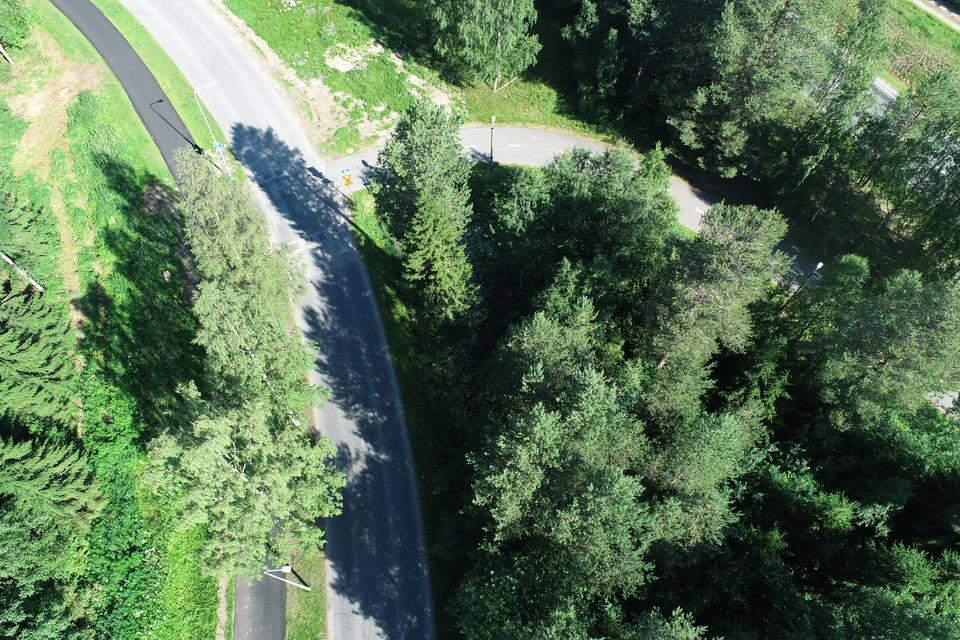intersection: (130, 117, 407, 248)
